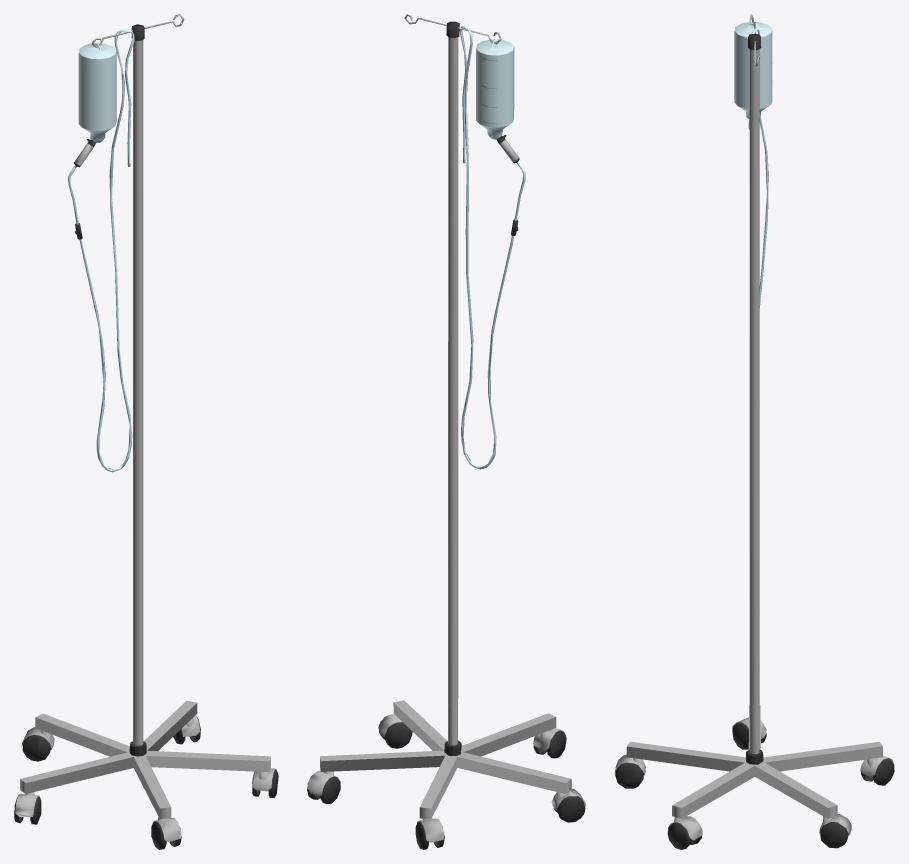
The model's file is dropper.fbx.
The picture shows the model from 3 angles, left to right: view 1: azimuth 30°, elevation 25°; view 2: azimuth 150°, elevation 25°; view 3: azimuth 270°, elevation 25°; orthographic projection.
Visible parts, largest first — view 1: dropper; view 2: dropper; view 3: dropper.
Part boxes in pixels (x1,y1,x2,y2): dropper: (14,14,278,849); dropper: (307,14,585,849); dropper: (614,14,894,849).
Bounding box in the file's own units: 42.94 × 134 × 44.44.
